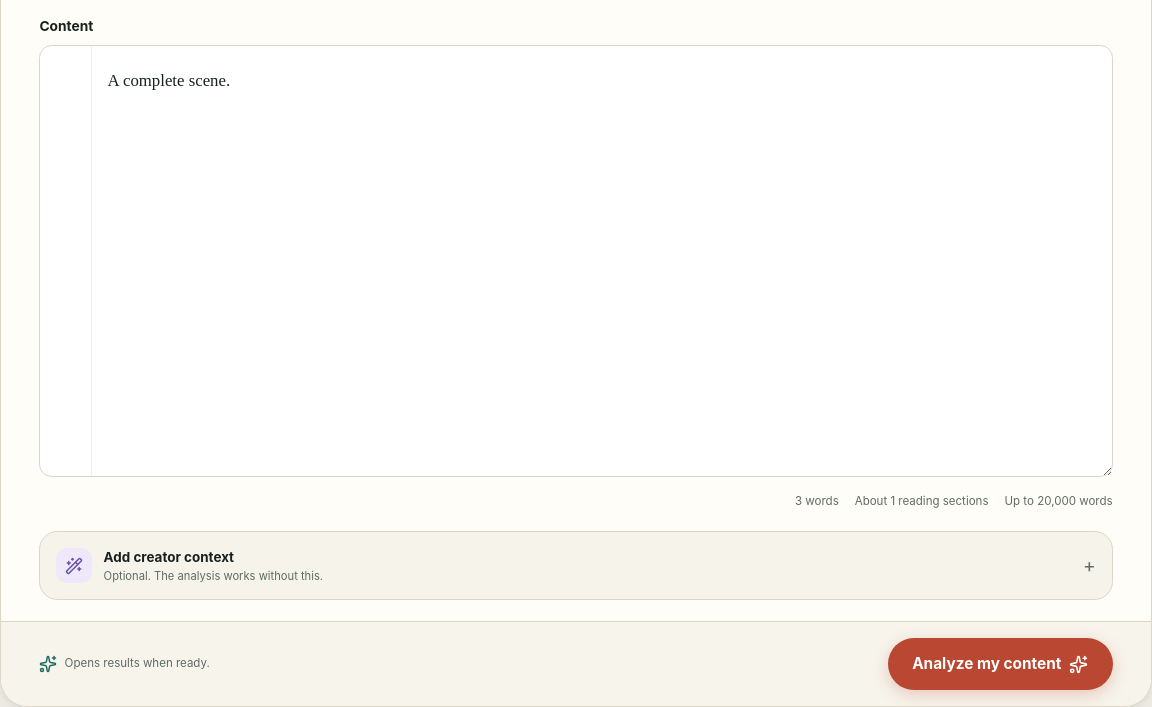
Scenario: ScriptEditor › shows analysis failures and restores the submit action
(page scrolled)
Click the button "Analyze my content": [1000, 664] box [888,638,1113,690]
(page scrolled)
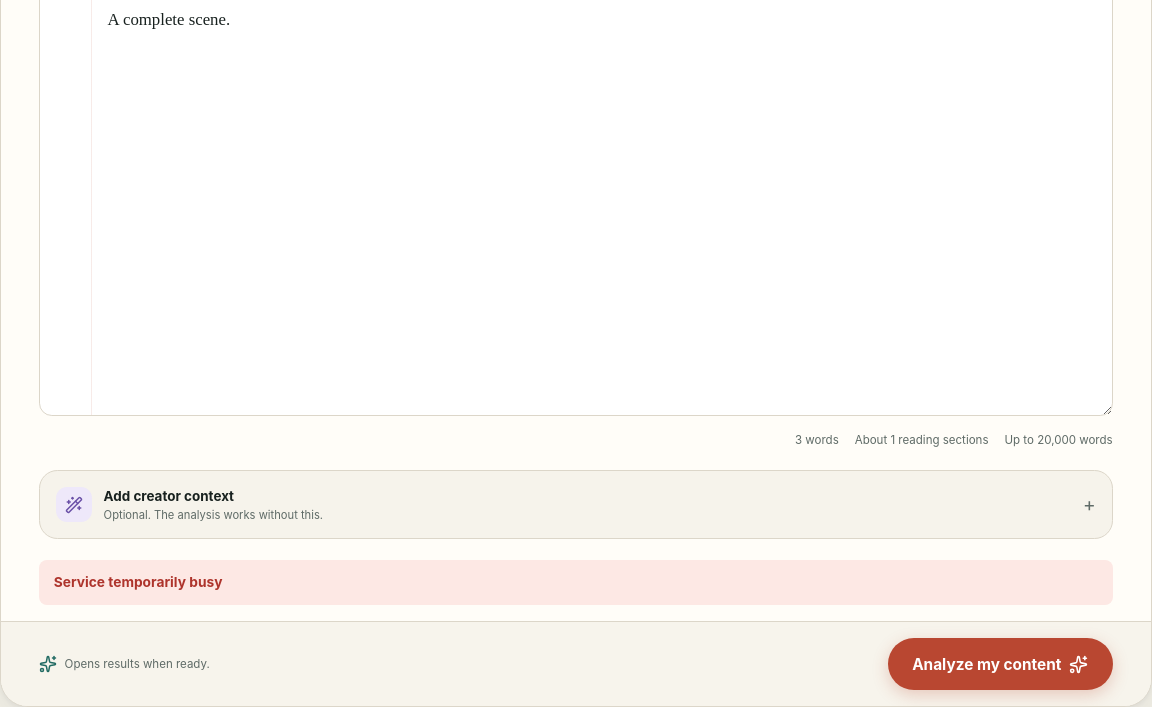
Expected: the message reads "Service temporarily busy", [54,574,222,590]
